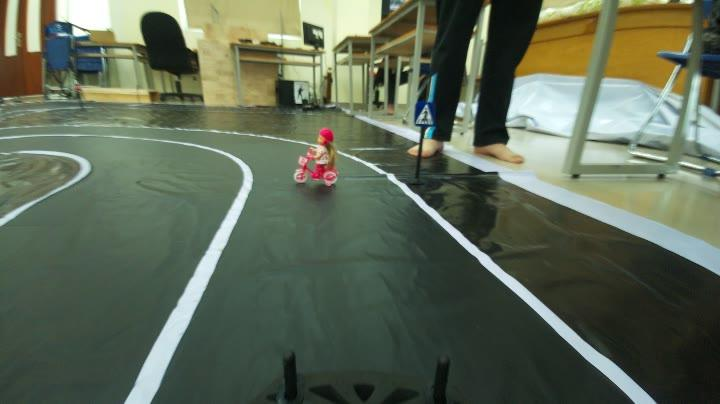crosswalk: (413, 99, 438, 130)
pedestrian: (289, 125, 352, 186)
